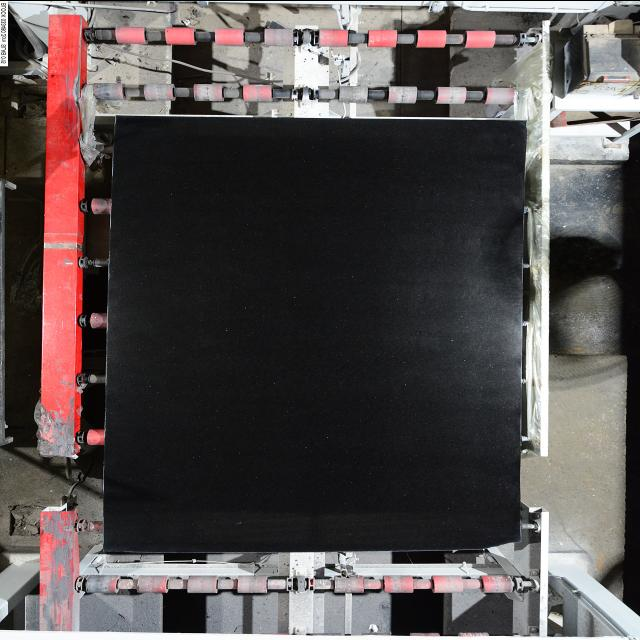chapa: (105, 115, 527, 551)
